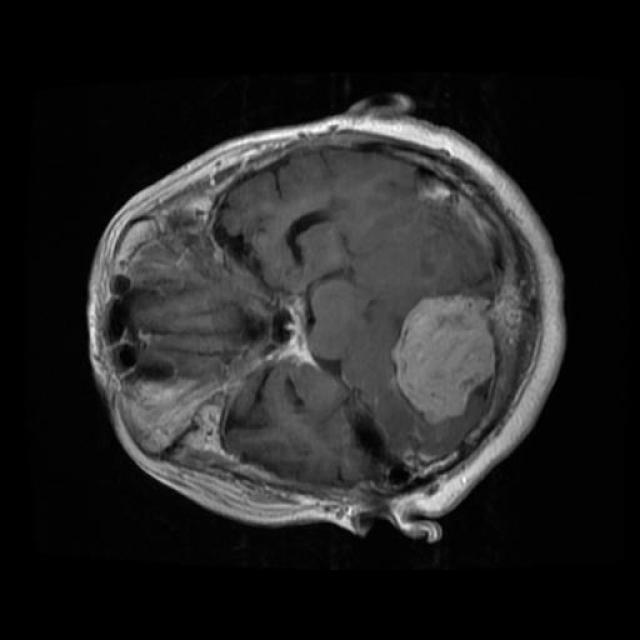Meningioma: (391, 295, 494, 424)
